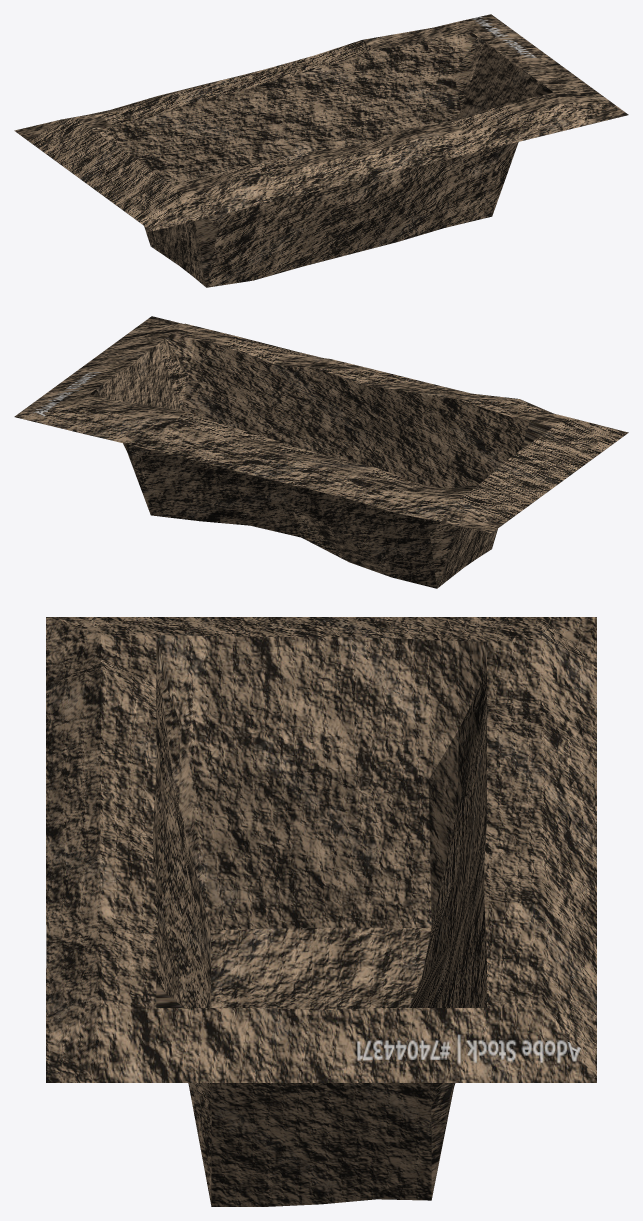
The model's file is trench_6x3m_v2.fbx.
The picture shows the model from 3 angles, top to bottom: view 1: azimuth 30°, elevation 25°; view 2: azimuth 150°, elevation 25°; view 3: azimuth 270°, elevation 25°; orthographic projection. The views are drawn at different scales.
Parts seen in each view (by area): view 1: Grid; view 2: Grid; view 3: Grid.
Boxes of the visible parts, left/top/right/bottom form: Grid: left=14, top=14, right=628, bottom=287; Grid: left=14, top=316, right=628, bottom=588; Grid: left=46, top=617, right=596, bottom=1206.
Bounding box in the file's own units: 600 × 164 × 300.
